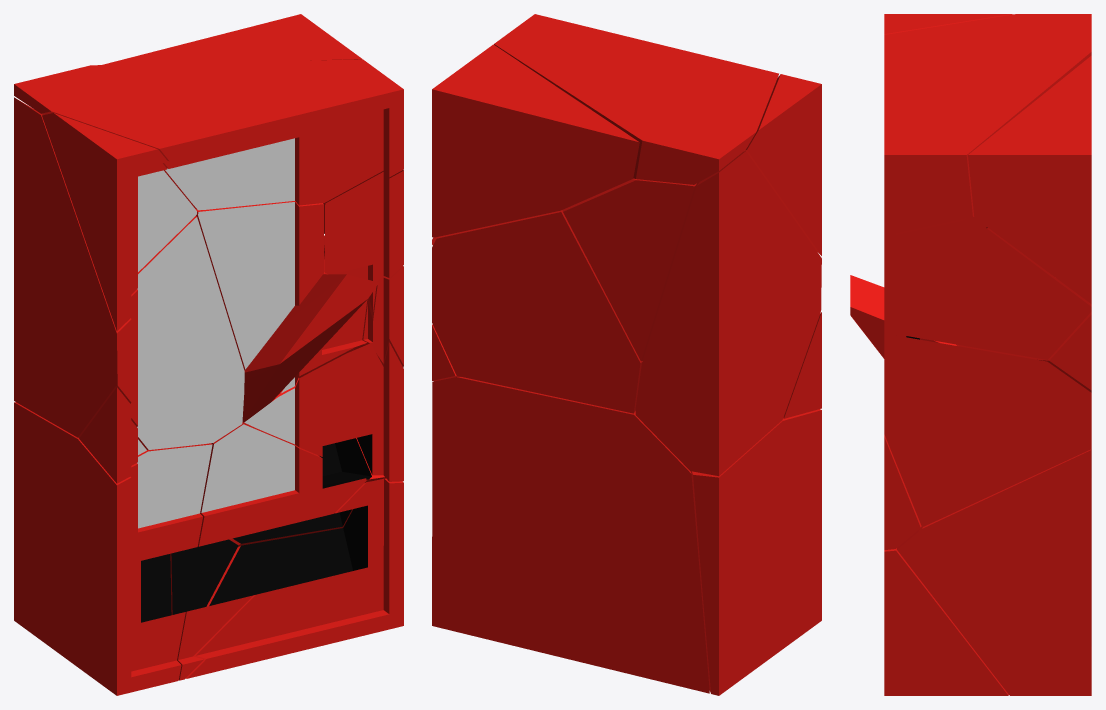
File: Vending Machine Cracked.fbx
The picture shows the model from 3 angles, left to right: view 1: azimuth 30°, elevation 25°; view 2: azimuth 150°, elevation 25°; view 3: azimuth 270°, elevation 25°; orthographic projection.
Parts seen in each view (by area): view 1: Vending-machine_cell.011, Vending-machine_cell.005, Vending-machine_cell.001, Vending-machine_cell.010, Vending-machine_cell.008, Vending-machine_cell, Vending-machine_cell.015, Vending-machine_cell.013, Vending-machine_cell.002, Vending-machine_cell.003, Vending-machine_cell.007, Vending-machine_cell.006 (+3 smaller); view 2: Vending-machine_cell.006, Vending-machine_cell.011, Vending-machine_cell.009, Vending-machine_cell.001, Vending-machine_cell.007, Vending-machine_cell.005, Vending-machine_cell.015, Vending-machine_cell, Vending-machine_cell.014, Vending-machine_cell.004; view 3: Vending-machine_cell.006, Vending-machine_cell.005, Vending-machine_cell.004, Vending-machine_cell.003, Vending-machine_cell.007, Vending-machine_cell.010, Vending-machine_cell.009, Vending-machine_cell.013, Vending-machine_cell.002, Vending-machine_cell.
Part boxes in pixels (x1,y1,x2,y2): Vending-machine_cell.011: (14, 97, 244, 449); Vending-machine_cell.005: (14, 59, 403, 210); Vending-machine_cell.001: (14, 402, 212, 695); Vending-machine_cell.010: (186, 478, 403, 678); Vending-machine_cell.008: (170, 423, 366, 680); Vending-machine_cell: (42, 113, 196, 330); Vending-machine_cell.015: (195, 201, 323, 369); Vending-machine_cell.013: (244, 342, 403, 481); Vending-machine_cell.002: (242, 274, 378, 422); Vending-machine_cell.003: (323, 170, 403, 281); Vending-machine_cell.007: (102, 14, 361, 64); Vending-machine_cell.006: (229, 378, 385, 546); Vending-machine_cell.006: (432, 377, 709, 693); Vending-machine_cell.011: (635, 151, 821, 476); Vending-machine_cell.009: (432, 210, 642, 413); Vending-machine_cell.001: (690, 409, 821, 695); Vending-machine_cell.007: (432, 44, 639, 237); Vending-machine_cell.005: (494, 14, 778, 184); Vending-machine_cell.015: (562, 178, 699, 361); Vending-machine_cell: (744, 74, 821, 255); Vending-machine_cell.014: (783, 312, 821, 418); Vending-machine_cell.004: (432, 324, 460, 381); Vending-machine_cell.006: (897, 449, 1091, 695); Vending-machine_cell.005: (884, 14, 1091, 235); Vending-machine_cell.004: (884, 333, 1091, 527); Vending-machine_cell.003: (884, 218, 1091, 359); Vending-machine_cell.007: (968, 55, 1091, 303); Vending-machine_cell.010: (884, 548, 1008, 695); Vending-machine_cell.009: (956, 228, 1091, 392); Vending-machine_cell.013: (884, 434, 921, 549); Vending-machine_cell.002: (850, 275, 956, 358); Vending-machine_cell: (884, 14, 1012, 34).
Bounding box in the file's own units: 49.2 × 87.92 × 35.53.
